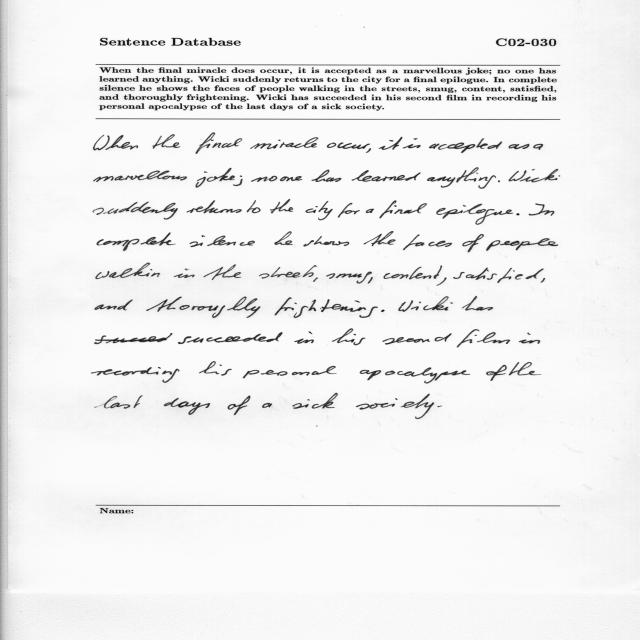word: (146, 297, 261, 318), (95, 332, 283, 344), (274, 297, 378, 318), (356, 394, 434, 419), (360, 367, 471, 384), (437, 204, 514, 225), (93, 202, 178, 220), (97, 232, 176, 251), (427, 168, 496, 189), (91, 367, 180, 383), (453, 268, 544, 283), (243, 366, 337, 378), (429, 138, 502, 153), (96, 263, 160, 279), (94, 171, 187, 182), (196, 133, 242, 154), (457, 329, 510, 347), (486, 238, 558, 251), (398, 296, 453, 312), (379, 201, 427, 219), (352, 170, 421, 182), (383, 333, 452, 345), (384, 266, 443, 280), (259, 265, 317, 279), (403, 234, 452, 250), (164, 398, 210, 415), (190, 235, 255, 247), (195, 168, 235, 187), (292, 393, 338, 409), (187, 200, 242, 213), (509, 169, 561, 182), (95, 395, 143, 409), (94, 135, 138, 150), (204, 264, 241, 280), (326, 272, 372, 284), (305, 201, 333, 220), (332, 329, 365, 345), (304, 236, 350, 247), (199, 361, 232, 376), (364, 231, 396, 246), (462, 296, 493, 311), (228, 396, 251, 415), (509, 362, 542, 375), (153, 134, 181, 149), (280, 137, 318, 148), (95, 300, 133, 311), (462, 234, 484, 252), (312, 170, 342, 182), (486, 365, 507, 381), (338, 203, 360, 218), (529, 203, 554, 216), (270, 200, 293, 214), (379, 137, 403, 150), (250, 140, 281, 150), (327, 142, 370, 149), (274, 231, 293, 245), (294, 331, 314, 344), (519, 333, 540, 344), (174, 269, 195, 278), (403, 139, 421, 149), (247, 200, 260, 213), (251, 176, 277, 182), (233, 175, 243, 186), (280, 176, 302, 181), (509, 144, 530, 149), (437, 278, 447, 286), (533, 144, 543, 150), (262, 403, 272, 408), (366, 209, 375, 213), (368, 277, 373, 283), (366, 148, 371, 153), (313, 277, 318, 282), (541, 278, 546, 282), (516, 214, 520, 216), (381, 310, 385, 312), (437, 406, 442, 407), (498, 180, 500, 182)
